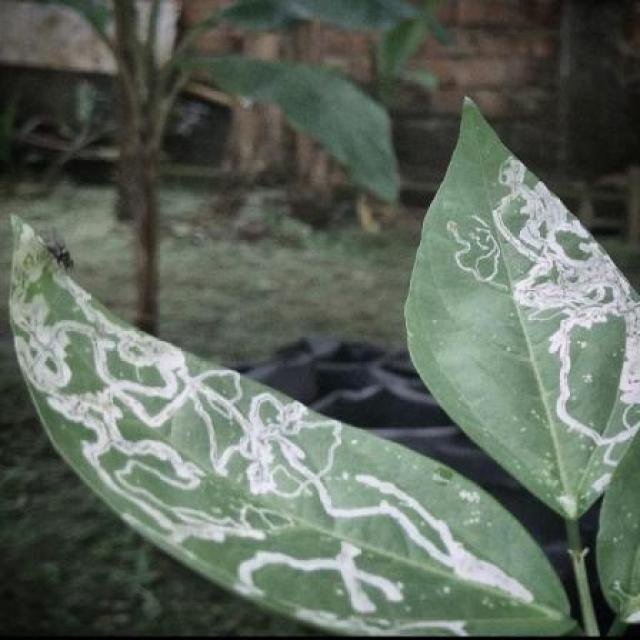Leaf Miner: (9, 208, 571, 640), (400, 89, 640, 517)
